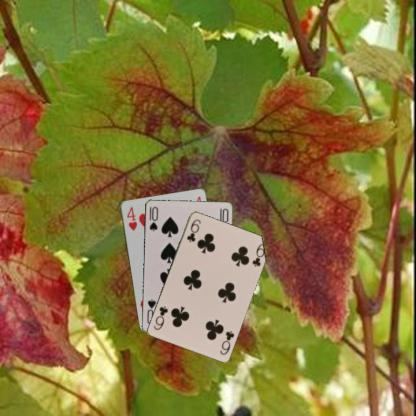10s: (147, 204, 159, 233)
4h: (124, 204, 138, 232)
6c: (217, 327, 235, 356), (184, 216, 202, 243)
